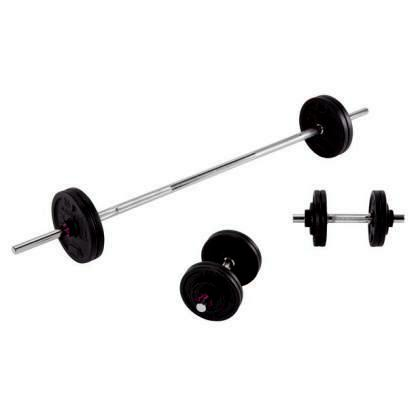Barbell: (9, 238, 28, 265)
